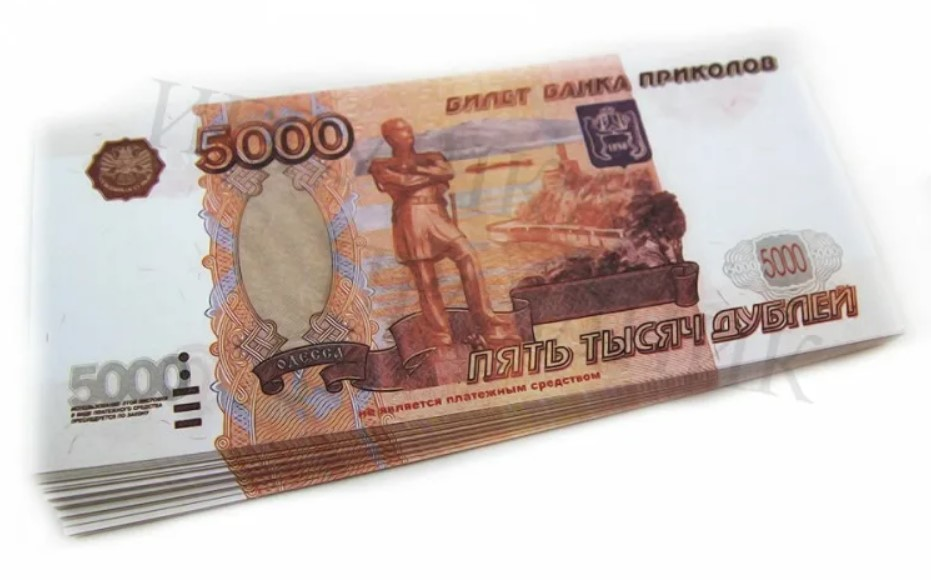cash: (28, 32, 902, 473)
